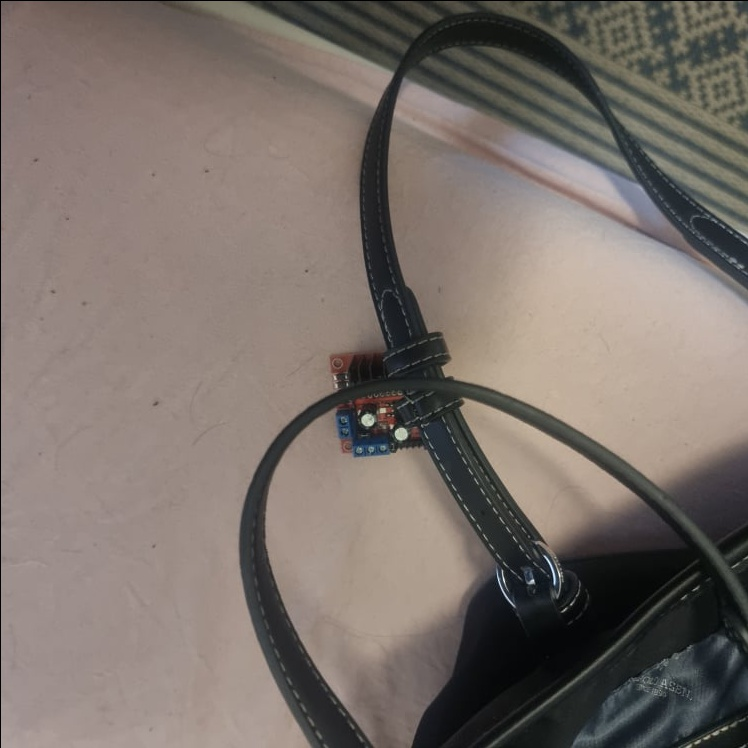MOTOR: (329, 349, 431, 457)
